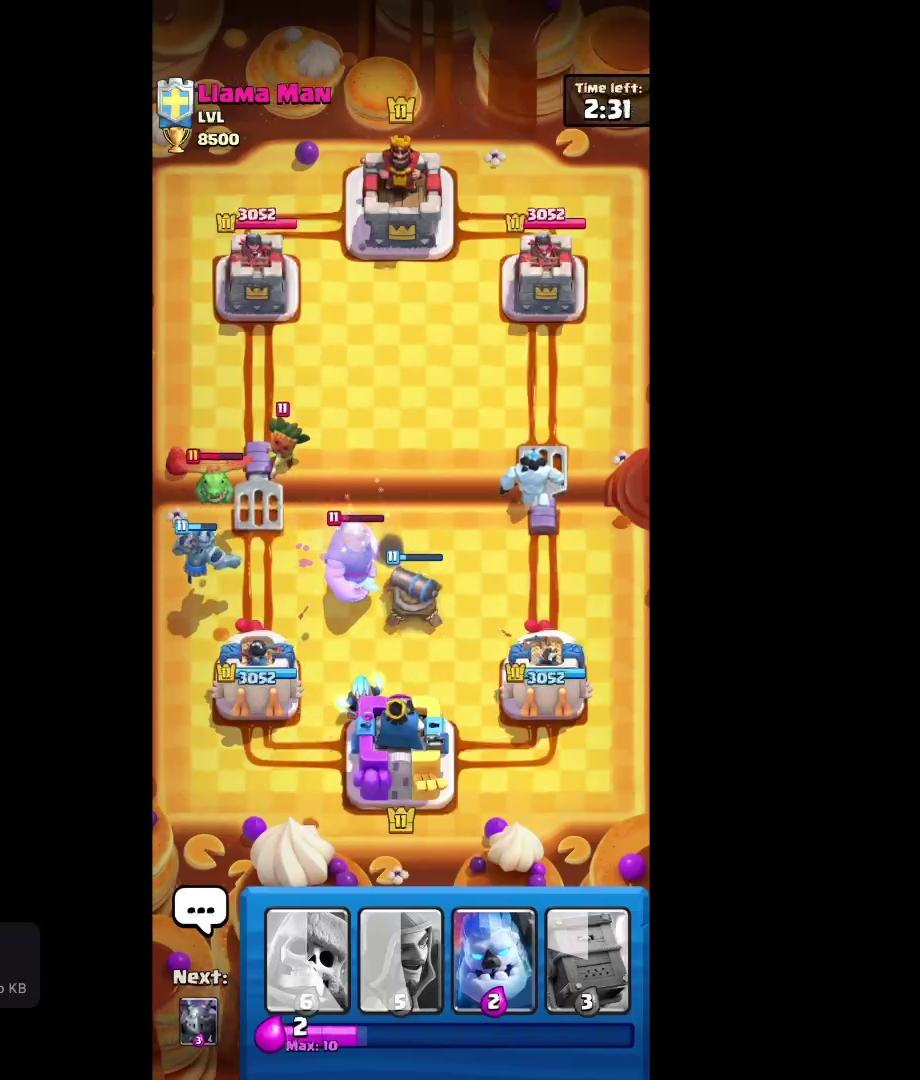Baby Dragon: (180, 445, 258, 522)
Dart Goblin: (254, 399, 314, 483)
